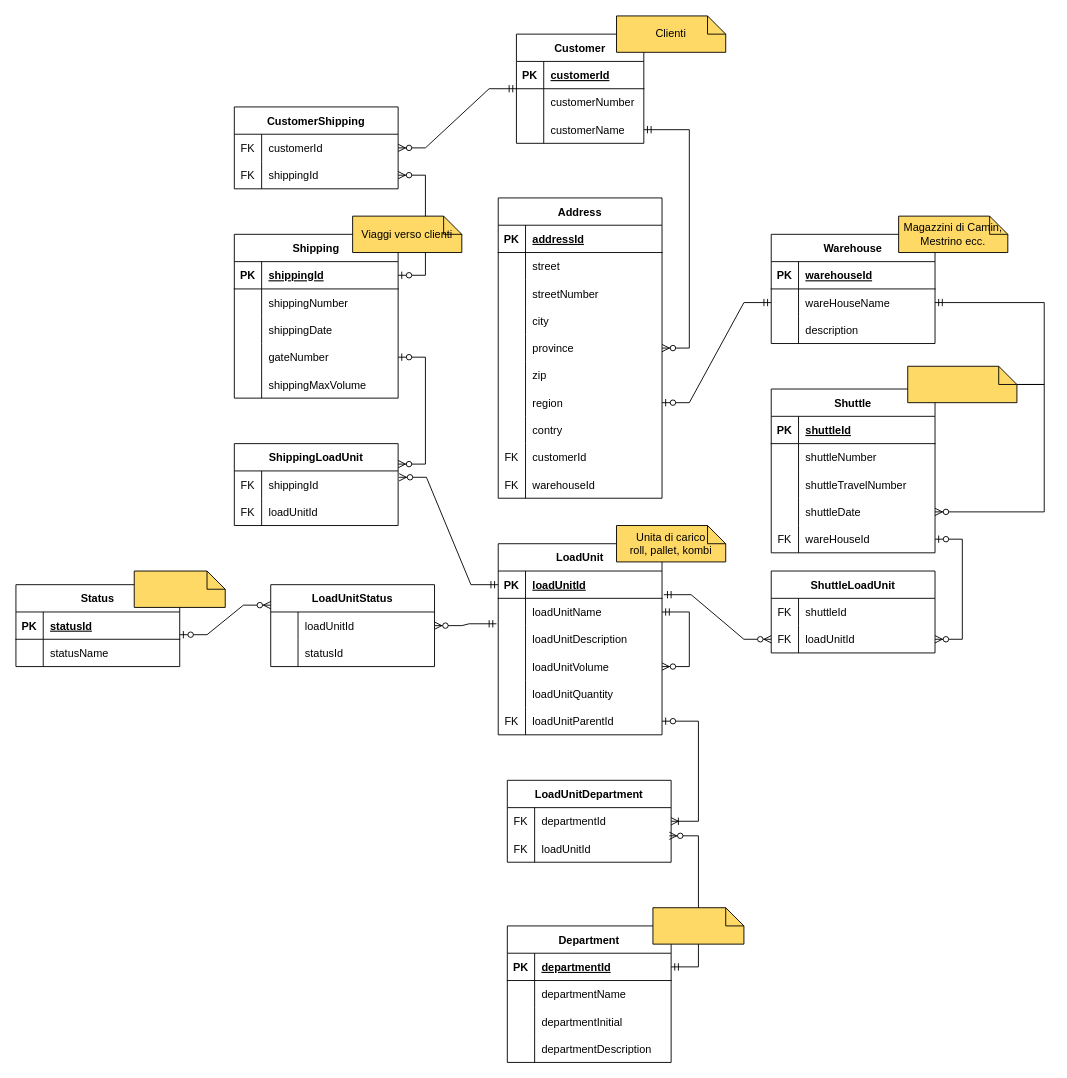
This 1067x1078 diagram has some shape labels left out. Here are the shapes that lost their labels. From the top down, the centre of each, then its label:
At [962,384]: "Navette verso sede di Agrologic".
At [179,588]: "Reale, virtuale".
At [698,925]: "Safo, 4g, ortofrutta".
